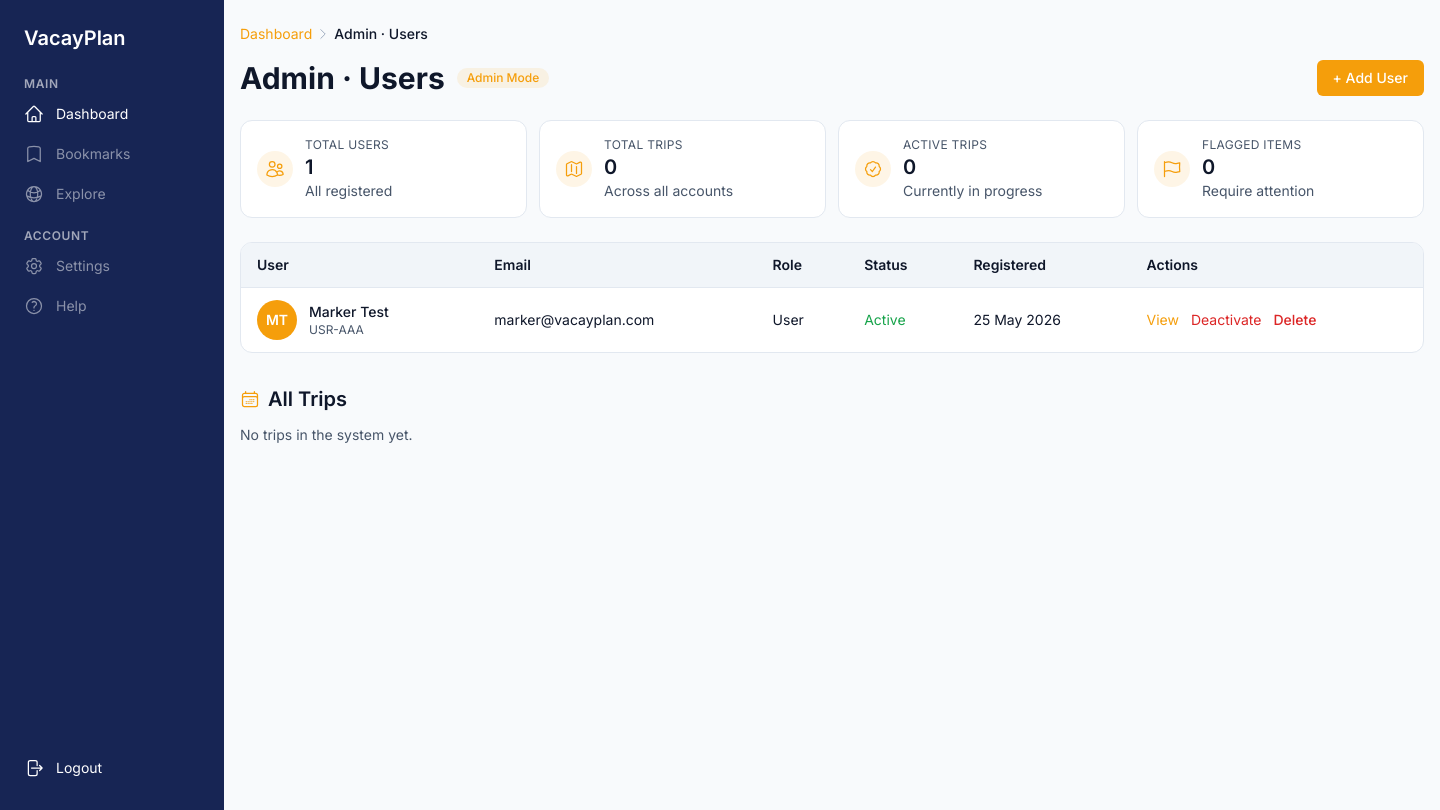
Test: AdminUserList › status toggle › Deactivate flow PATCHes with status=deactivated and updates the row on success
Click the button "Deactivate": [1226, 320] box [1191,310,1261,330]
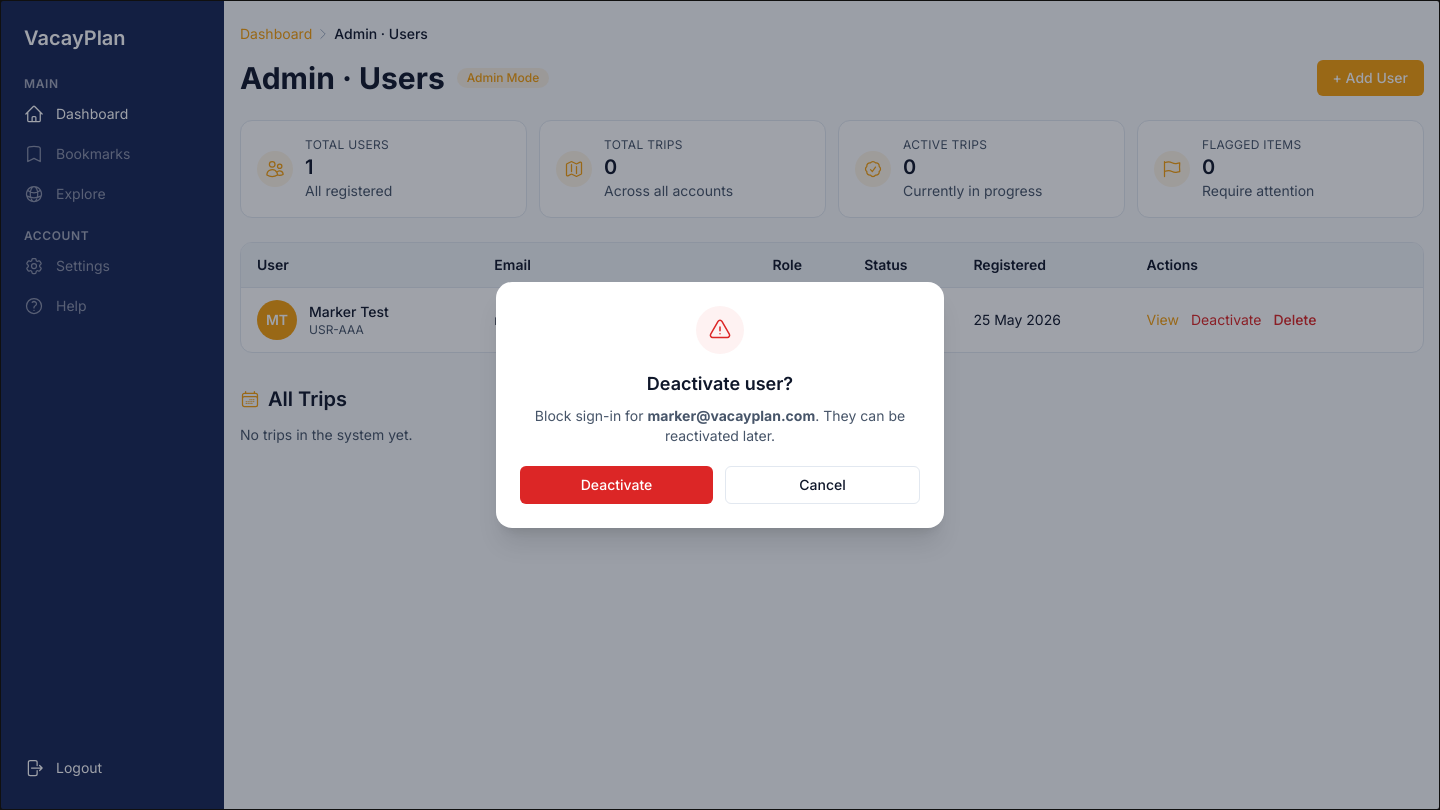
Now the heading "Deactivate user?" is shown, box [647,373,793,394]
Now the text "marker@vacayplan.com" is shown, box [648,407,815,424]
Click the button "Deactivate": [616, 485] box [520,466,713,504]
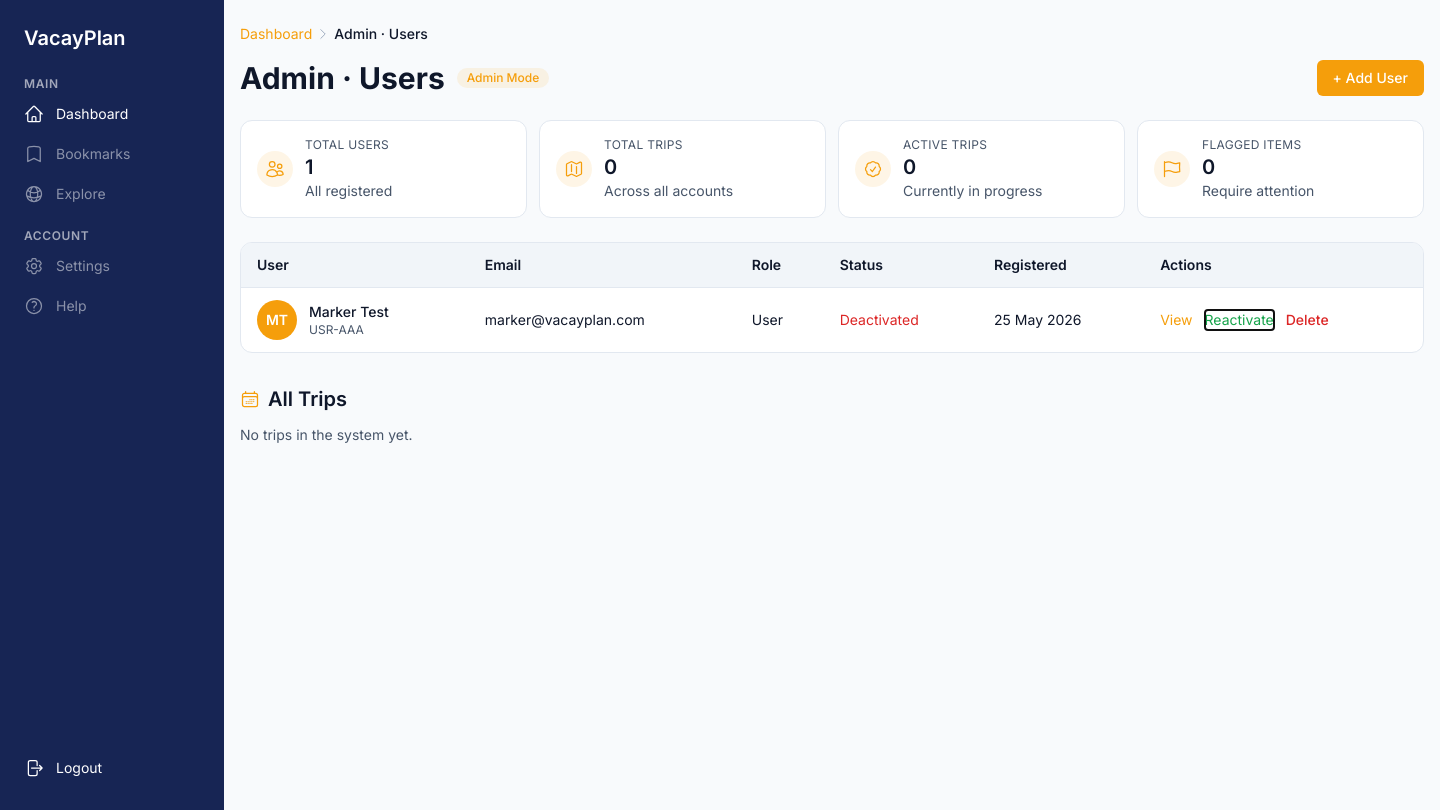
Now the dialog is gone
Now the text "Deactivated" is shown, box [840,311,919,328]
